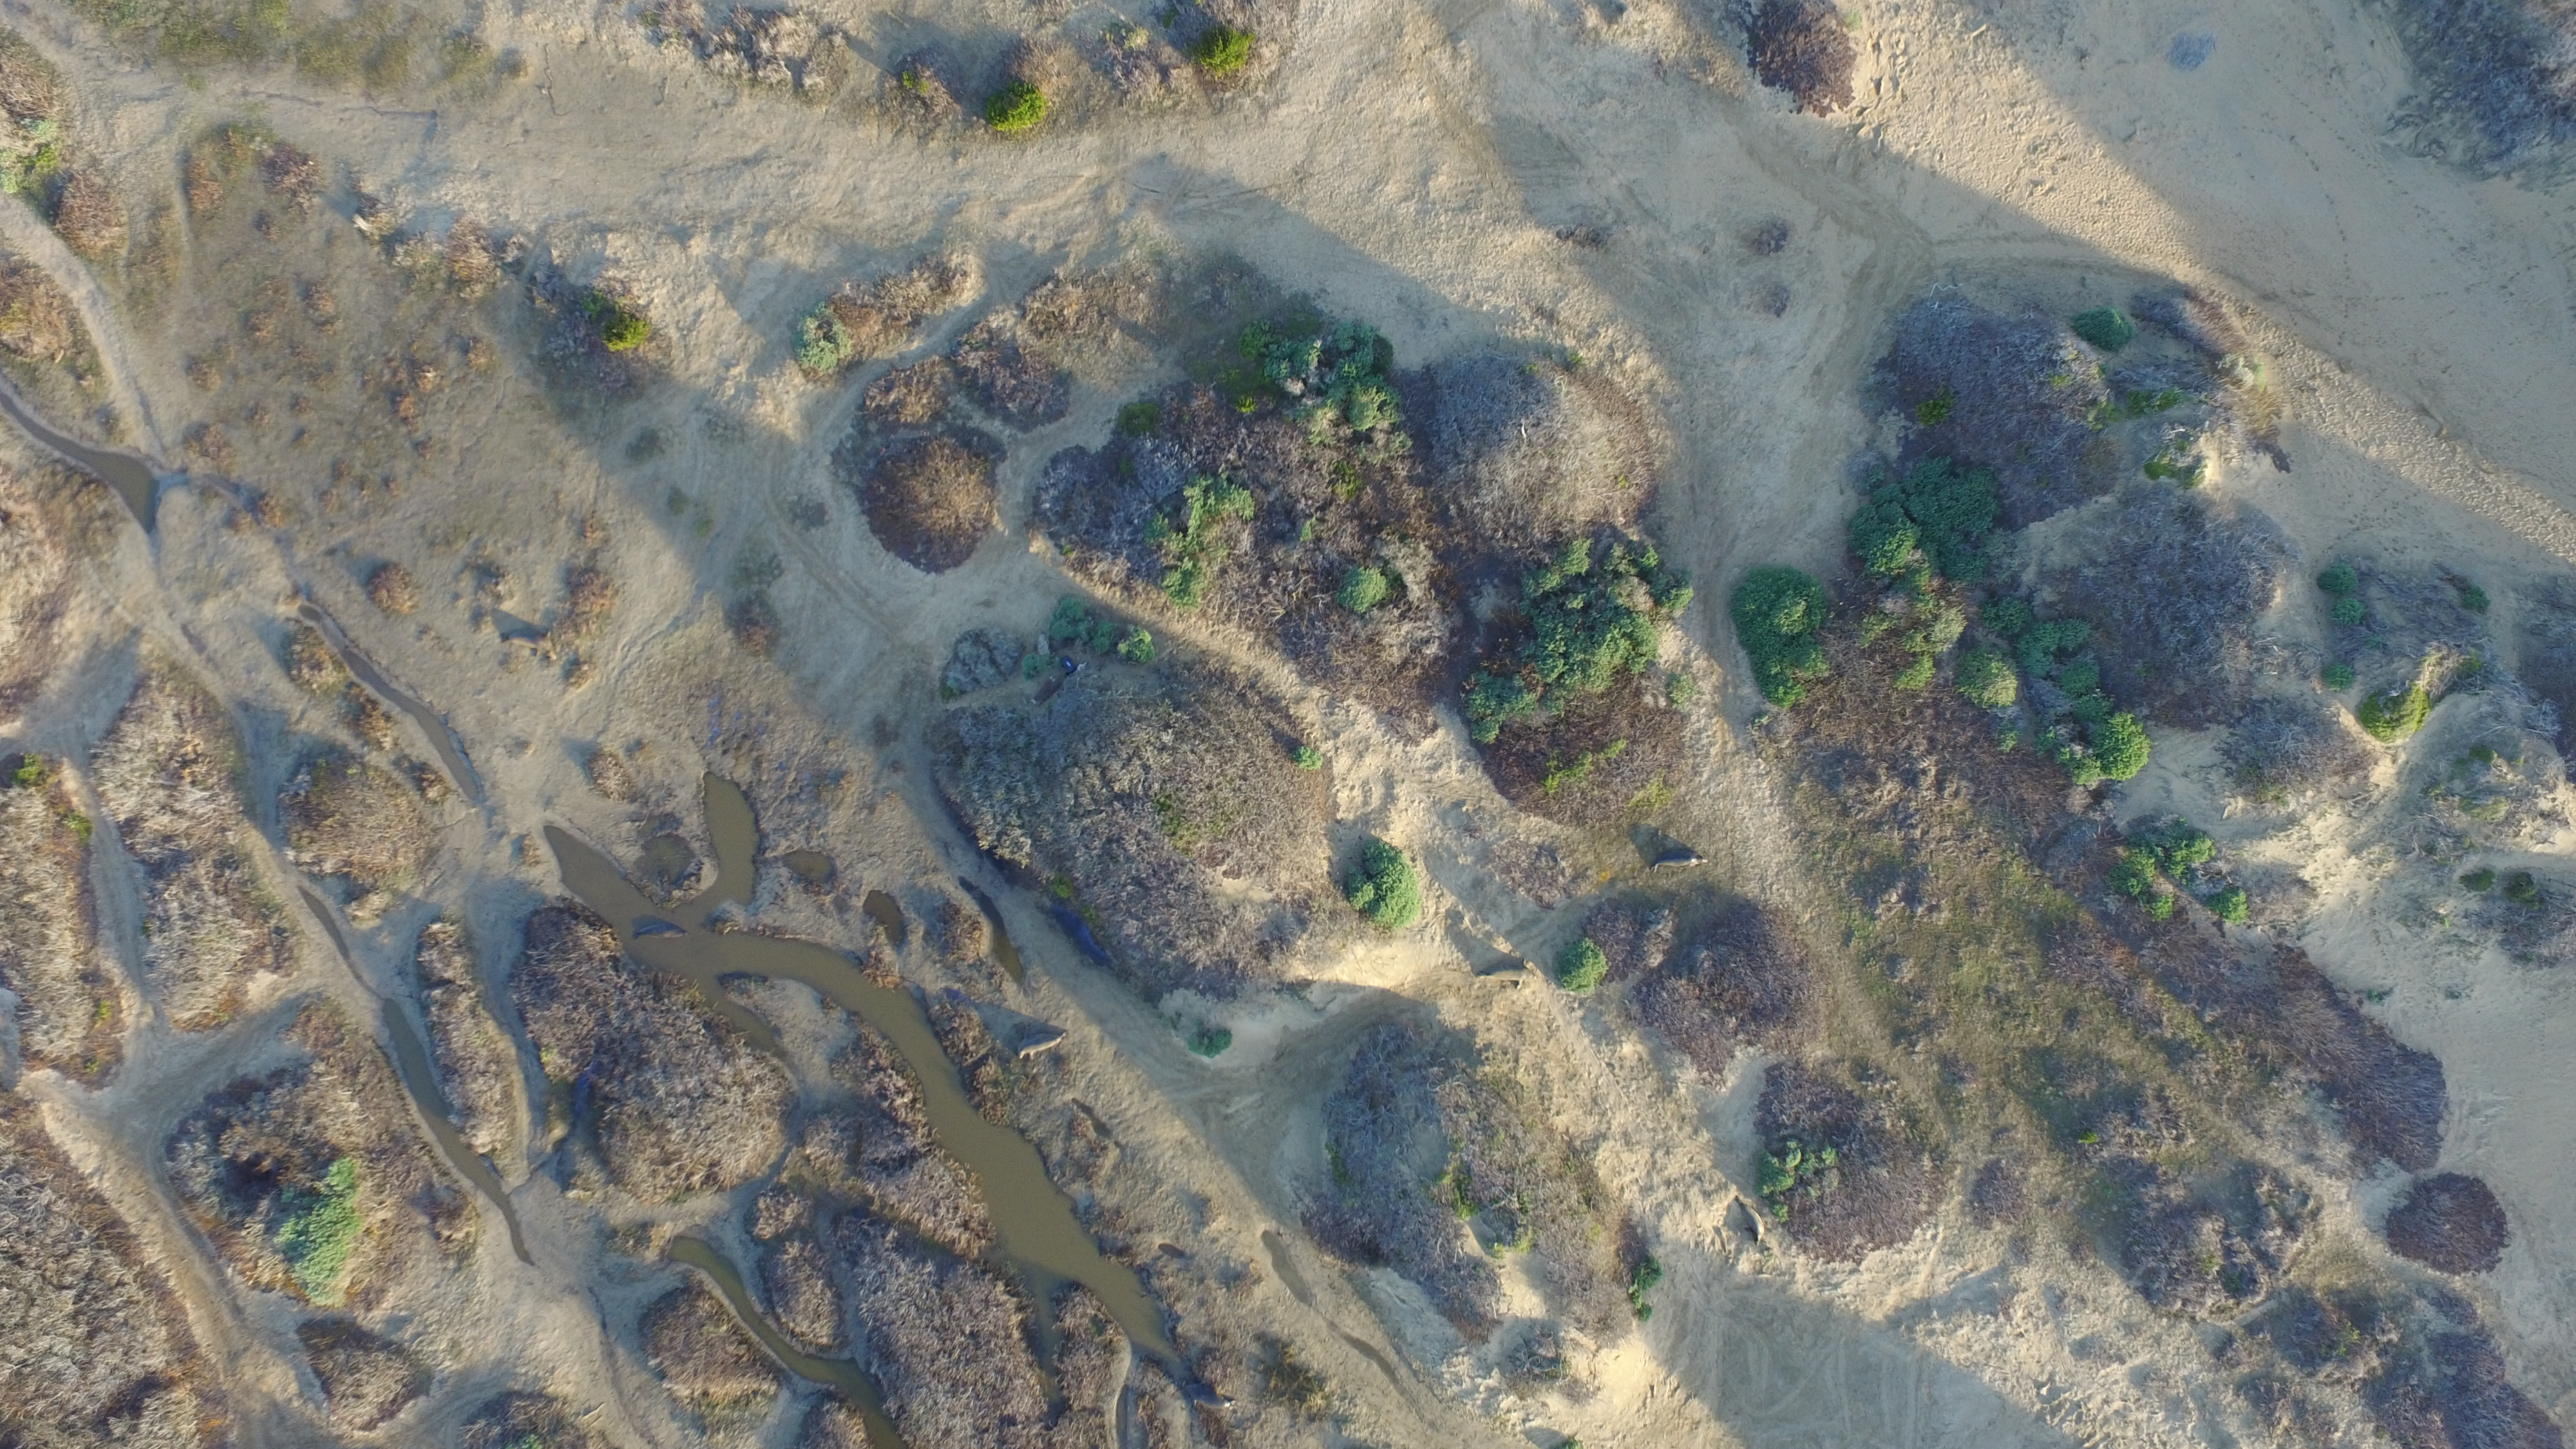adult male: (1474, 957, 1537, 989), (501, 628, 559, 660), (1017, 1028, 1069, 1062), (1736, 1196, 1766, 1246), (1649, 849, 1709, 874), (1187, 1384, 1231, 1410), (633, 924, 686, 941)
